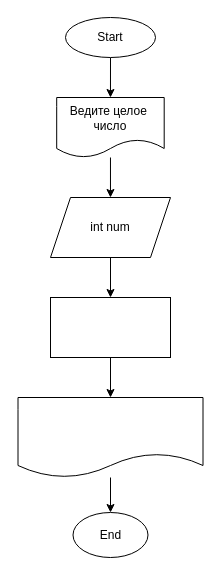
This 220x575 diagram has some shape labels left out. The box of each missing label's shape, as (x1, y1, x2, y2) in pixels:
int square square = num * num: (50, 296, 170, 358)
Квадрат числа num = square: (17, 396, 203, 478)
